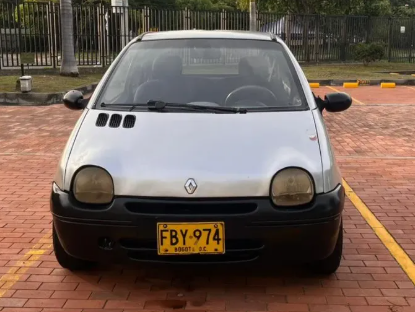placa: (156, 222, 226, 255)
